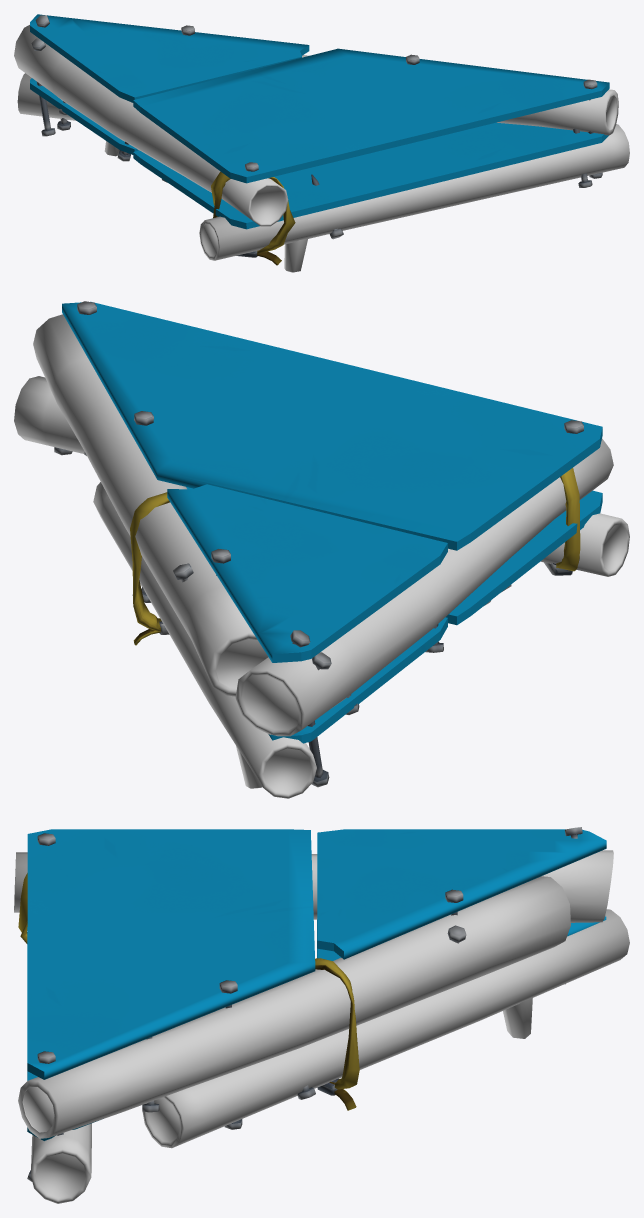
The model's file is RaftFloorWedge2.obj.
3 renders of one model, top to bottom at view 1: azimuth 30°, elevation 25°; view 2: azimuth 150°, elevation 25°; view 3: azimuth 270°, elevation 25°, orthographic. The views are drawn at different scales.
Visible parts, largest first — view 1: Cube.003_Cube.016; view 2: Cube.003_Cube.016; view 3: Cube.003_Cube.016.
Boxes of the visible parts, x1,y1,x2,y2 form: Cube.003_Cube.016: (14,14,629,272); Cube.003_Cube.016: (14,301,629,798); Cube.003_Cube.016: (14,827,629,1203).
Bounding box in the file's own units: 0.0643 × 0.0204 × 0.0637.
